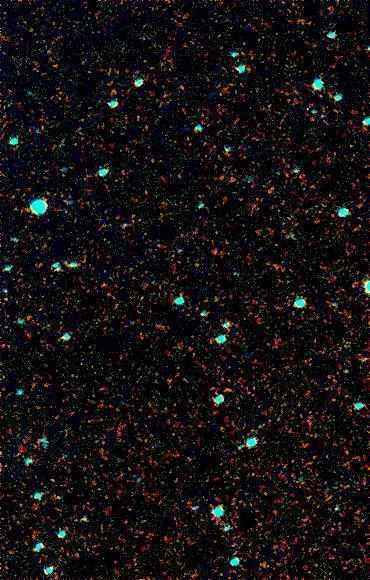star: (201, 236, 231, 266)
